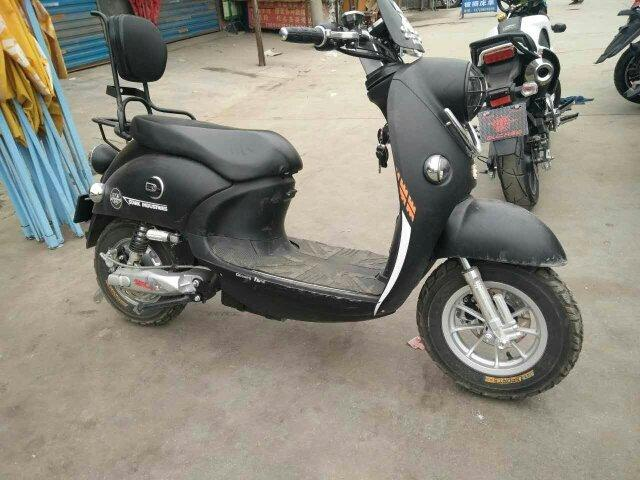non-vehicle: (76, 51, 587, 401), (461, 1, 570, 213)
